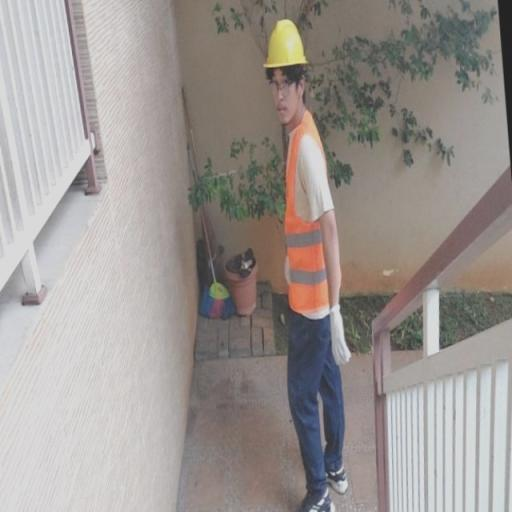Person: (231, 12, 385, 509)
boots: (288, 461, 359, 512)
gloves: (320, 300, 366, 369), (282, 252, 298, 286)
helmet: (260, 17, 311, 72)
vest: (281, 108, 332, 318)
